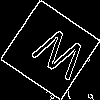W: (25, 25, 90, 90)
